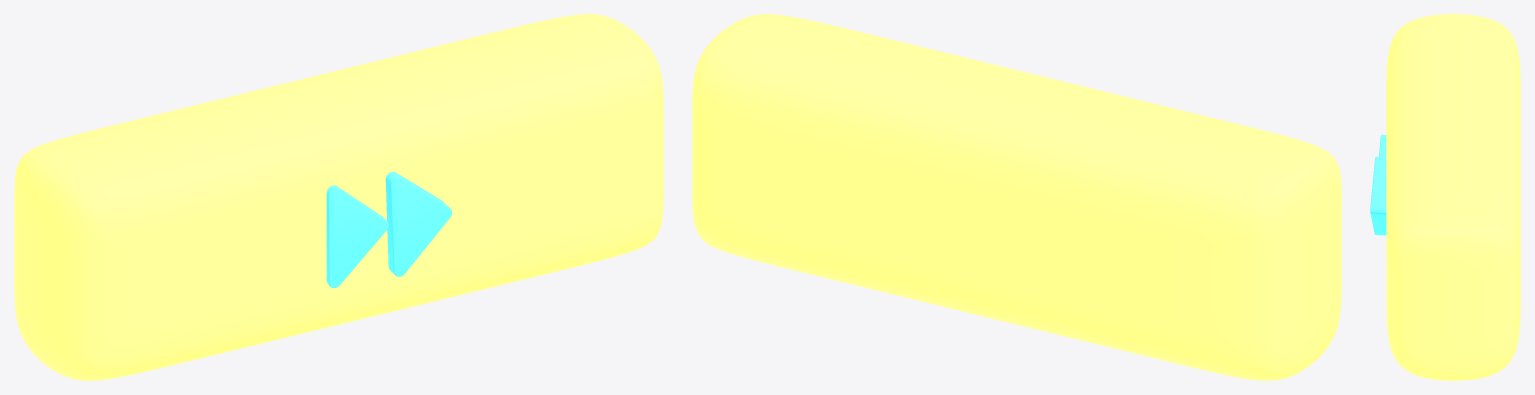
File: main_button.glb
The picture shows the model from 3 angles, left to right: view 1: azimuth 30°, elevation 25°; view 2: azimuth 150°, elevation 25°; view 3: azimuth 270°, elevation 25°; orthographic projection. The views are drawn at different scales.
Parts seen in each view (by area): view 1: startbutton1, startbutton2; view 2: startbutton1; view 3: startbutton1, startbutton2.
Part boxes in pixels (x1,y1,x2,y2): startbutton1: [14, 14, 663, 380]; startbutton2: [326, 171, 451, 287]; startbutton1: [692, 14, 1341, 380]; startbutton1: [1386, 14, 1520, 380]; startbutton2: [1370, 134, 1386, 235].
Size of the model in its own units: 1.2 by 0.4067 by 0.3421.
